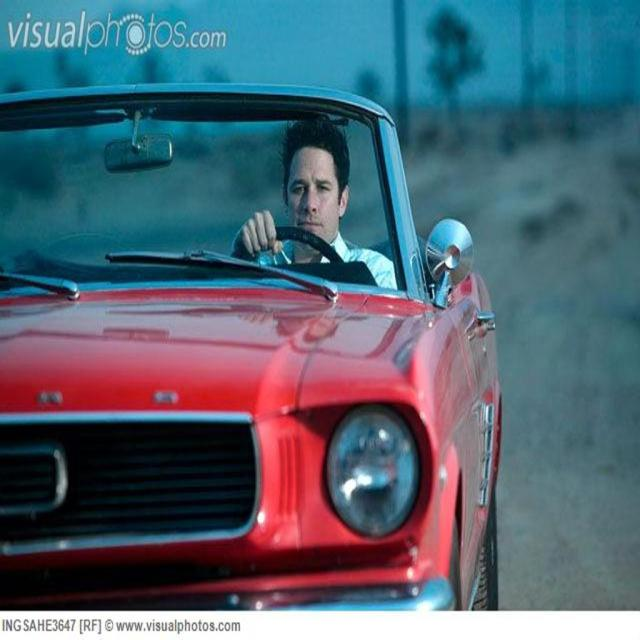Face: (282, 133, 344, 264)
